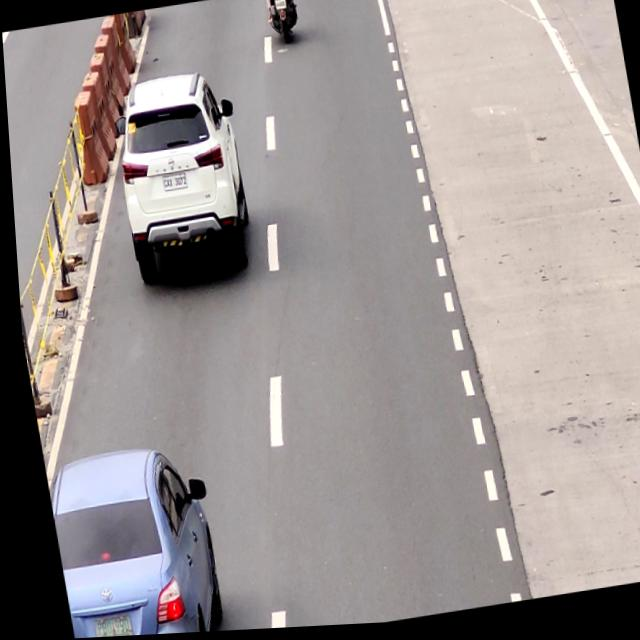Car: (36, 438, 218, 639), (100, 65, 256, 291)
License-Plate: (80, 610, 127, 638), (158, 174, 186, 195), (272, 0, 288, 15)
Motorcycle: (261, 0, 304, 49)
